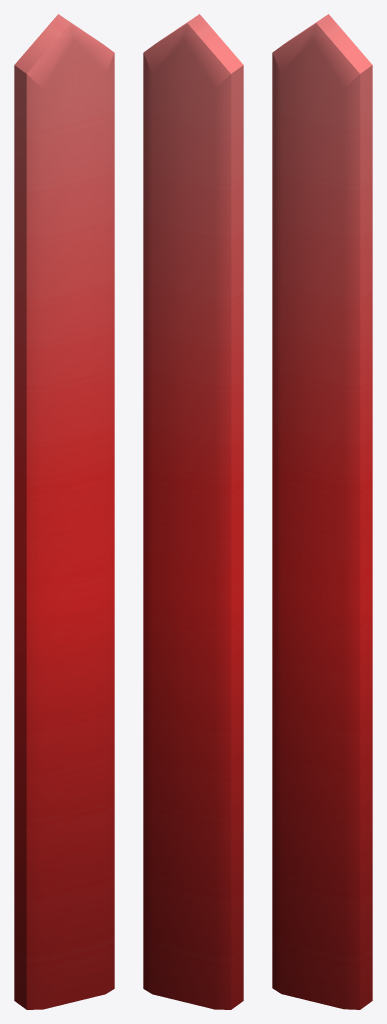
The model's file is Blade_Three.fbx.
3 renders of one model, left to right at view 1: azimuth 30°, elevation 25°; view 2: azimuth 150°, elevation 25°; view 3: azimuth 330°, elevation 25°, orthographic.
Parts seen in each view (by area): view 1: Blade_Three; view 2: Blade_Three; view 3: Blade_Three.
Boxes of the visible parts, box(x1,y1,x2,y2) form: Blade_Three: box(14, 14, 114, 1009); Blade_Three: box(143, 14, 243, 1009); Blade_Three: box(272, 14, 372, 1009).
Bounding box in the file's own units: 1 × 10.63 × 0.3889.
